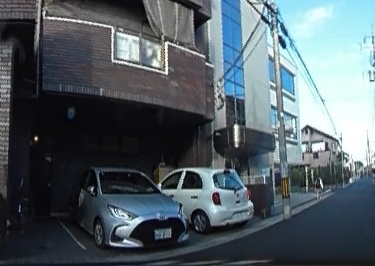person: (314, 173, 321, 198)
